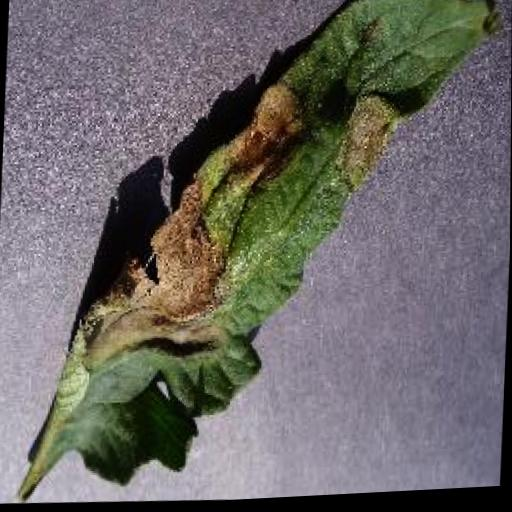Late Blight: (13, 0, 507, 511)
